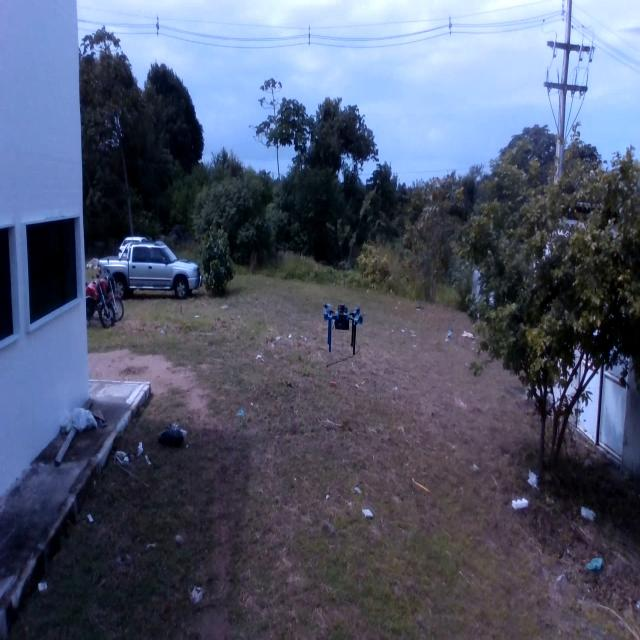-uav-: (317, 289, 367, 360)
